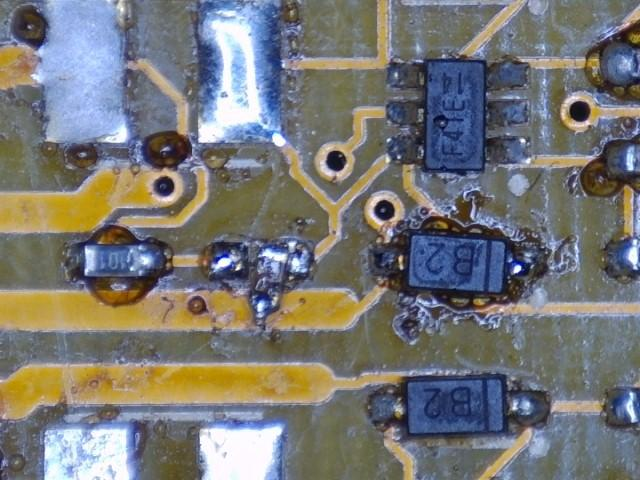Dry_joint: (603, 44, 637, 88), (489, 60, 530, 90), (487, 137, 528, 164), (489, 101, 529, 126)
Incorrect_installation: (252, 239, 312, 322)
